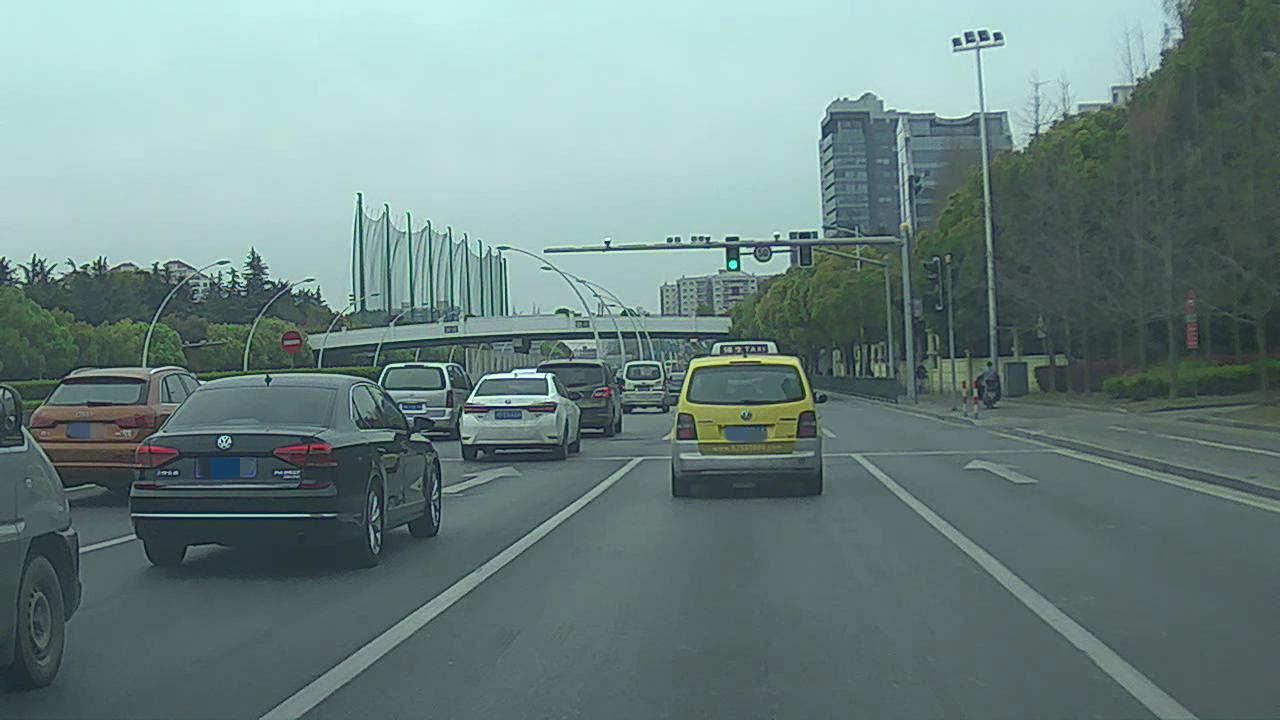traffic_light: (724, 233, 744, 273), (798, 234, 814, 265)
